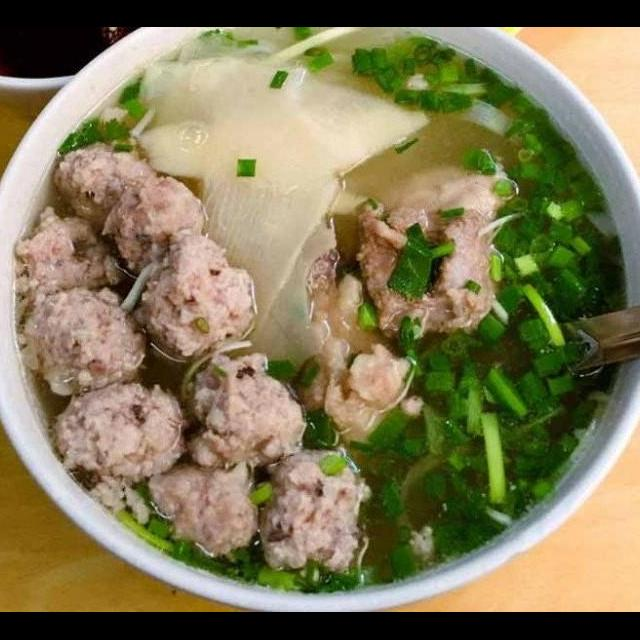vien moc: (11, 276, 158, 400), (244, 446, 376, 584), (128, 230, 264, 360), (176, 348, 310, 476), (46, 378, 190, 490), (134, 454, 264, 558), (98, 166, 214, 274), (7, 200, 122, 300), (50, 136, 156, 230)
